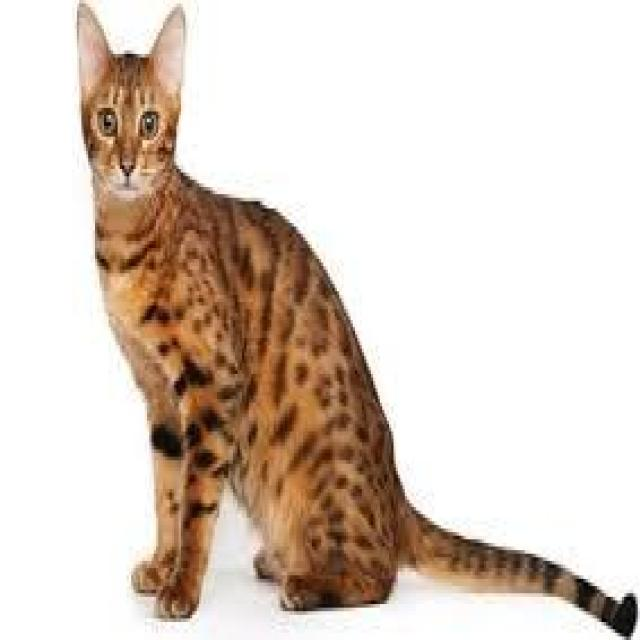Cat: (66, 2, 193, 210)
